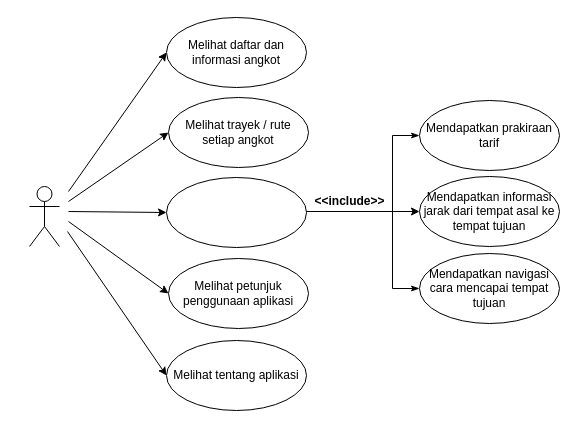
Some shapes in this 577 by 428 pixel diagram are drawn without their labels. The centre of each missing label's shape, as x and y in pixels:
Memasukkan tempat asal dan tujuan: the point at 236,212
Pengguna: the point at 44,216
